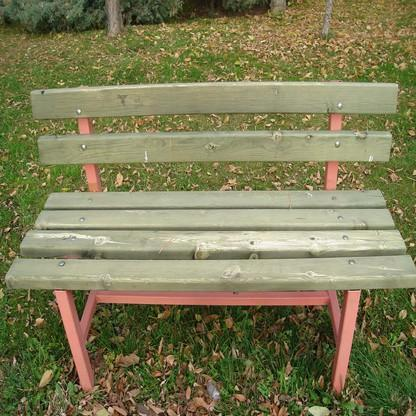obstacle: (10, 73, 408, 387)
